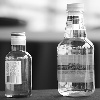beer: (6, 30, 39, 100)
